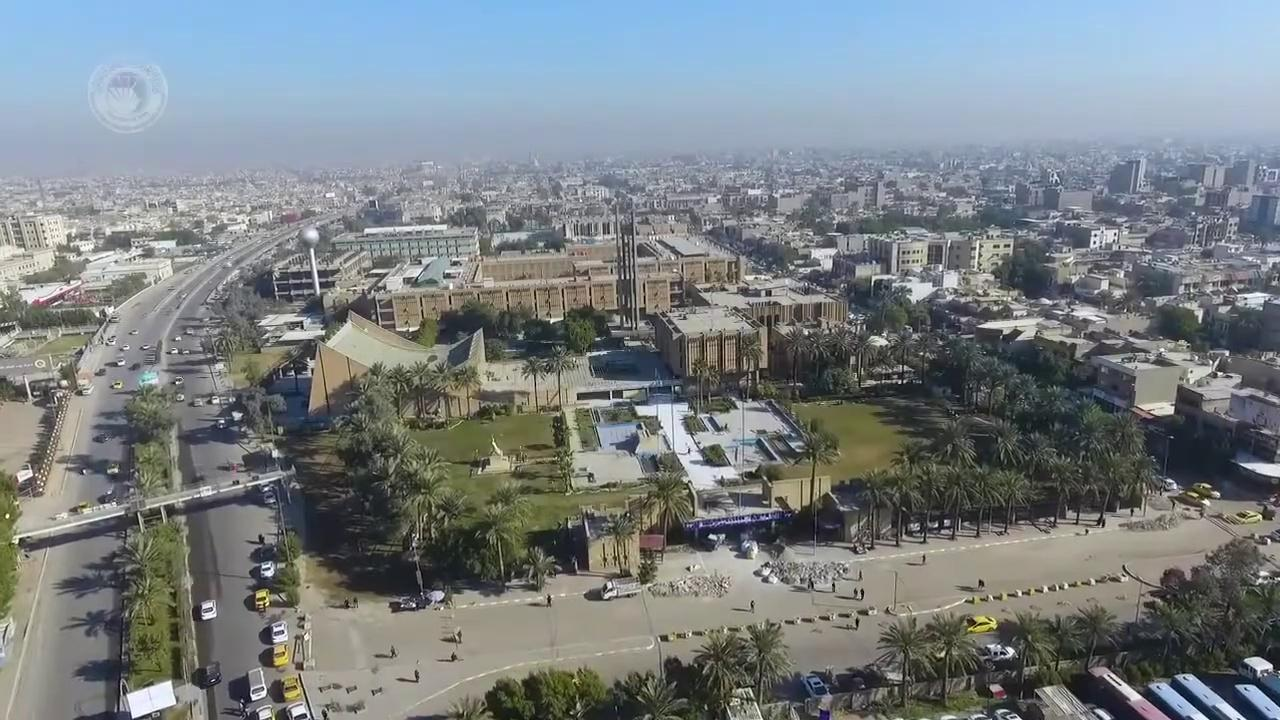car: (601, 576, 642, 600), (192, 663, 221, 689), (801, 673, 829, 697), (963, 614, 997, 633), (1225, 509, 1262, 525), (281, 675, 302, 698), (1191, 482, 1221, 498), (271, 645, 291, 669), (285, 701, 310, 719), (249, 671, 265, 699), (270, 621, 288, 643), (199, 599, 217, 620), (259, 560, 276, 578), (1160, 477, 1177, 492), (103, 491, 120, 506), (256, 704, 271, 720), (105, 462, 120, 475), (264, 490, 278, 502), (76, 502, 90, 514), (191, 393, 202, 407), (93, 432, 107, 442), (173, 391, 184, 402), (110, 380, 123, 389), (81, 384, 92, 394), (174, 376, 184, 385), (212, 395, 220, 405), (217, 420, 225, 429)
person: (453, 626, 462, 644), (389, 645, 397, 658), (545, 593, 552, 607), (413, 668, 420, 682), (749, 599, 754, 613)
tree: (857, 363, 1159, 545), (331, 356, 477, 597), (53, 517, 197, 708), (863, 411, 1039, 543), (1139, 536, 1278, 674), (110, 528, 179, 690), (383, 444, 451, 597), (1075, 406, 1152, 527), (791, 416, 841, 551), (471, 481, 534, 588), (122, 382, 179, 492), (919, 608, 978, 707), (690, 624, 749, 717), (874, 610, 931, 706), (997, 607, 1051, 699), (639, 467, 693, 555), (740, 619, 793, 706), (427, 486, 469, 590), (537, 664, 606, 718), (1148, 597, 1197, 673), (879, 460, 922, 546), (1069, 599, 1117, 672), (623, 669, 688, 719), (122, 382, 174, 439), (1041, 612, 1085, 673), (859, 466, 890, 548), (601, 510, 638, 576), (485, 674, 535, 719), (542, 343, 576, 409), (133, 440, 169, 499), (449, 361, 482, 418), (886, 326, 917, 384), (782, 324, 811, 385), (406, 358, 435, 418), (519, 354, 548, 411), (383, 362, 412, 419), (429, 359, 456, 420), (909, 331, 939, 385), (806, 326, 836, 380), (524, 545, 557, 591), (445, 692, 493, 719), (564, 314, 595, 354), (552, 445, 575, 495), (689, 356, 708, 416), (701, 360, 720, 404), (636, 549, 658, 586)
